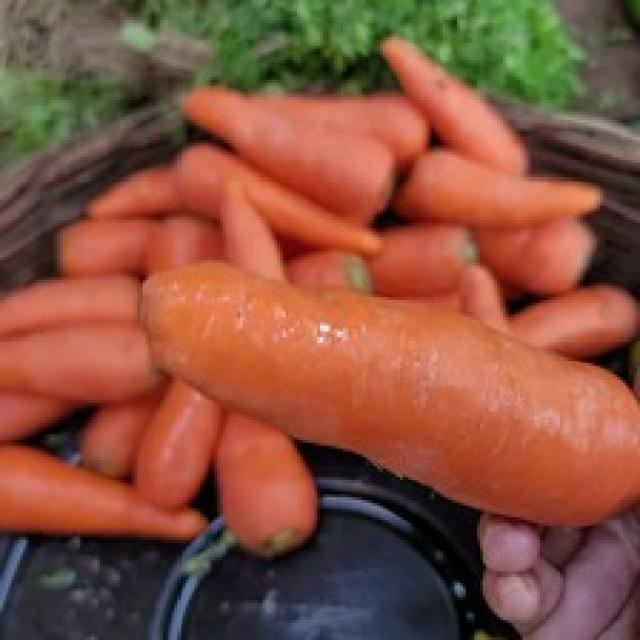Fresh_Carrot: (137, 240, 640, 531), (168, 69, 395, 224), (422, 136, 640, 240), (2, 436, 194, 554), (4, 328, 162, 396)
